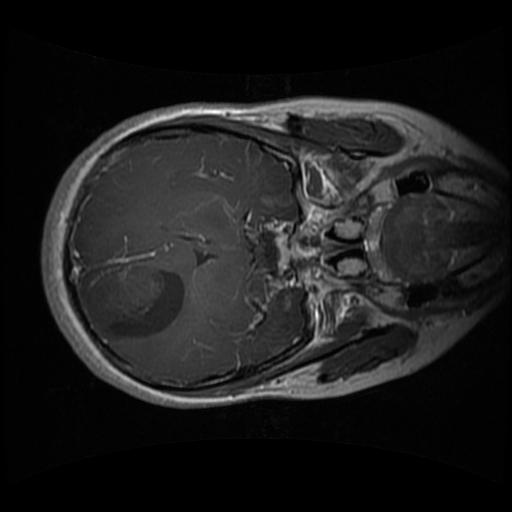glioma: (100, 267, 187, 341)
